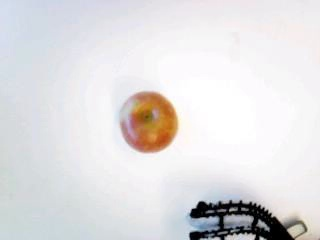apple: (119, 89, 178, 152)
hand: (188, 200, 306, 240)
